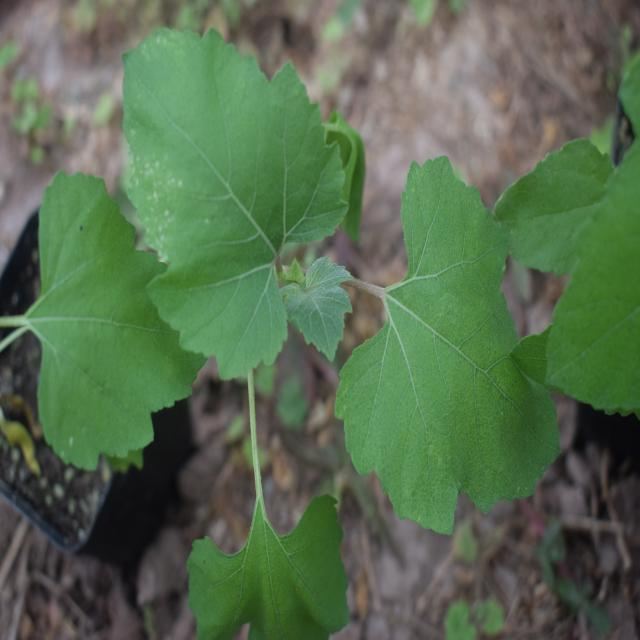cocklebur: (24, 64, 569, 568)
